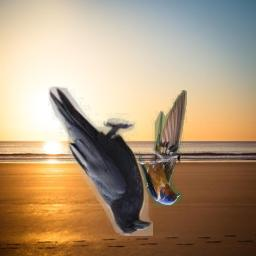Crow: (48, 86, 153, 236)
Swallow: (138, 90, 187, 206)
